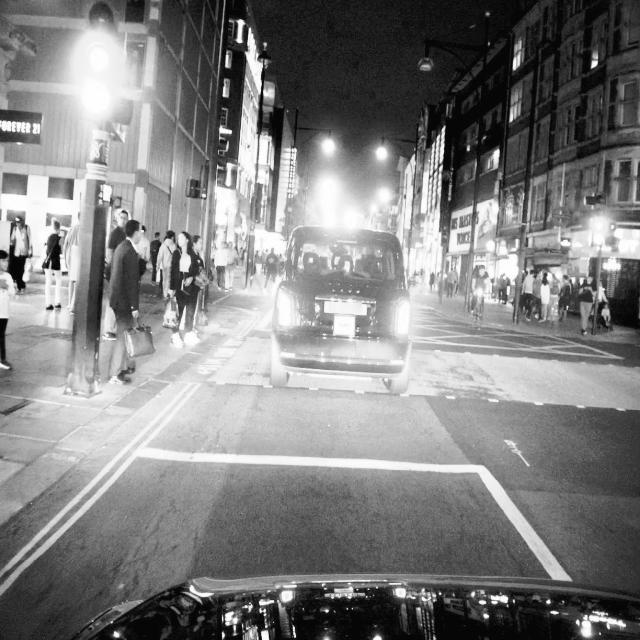Light: (84, 0, 116, 77), (111, 66, 134, 125)
